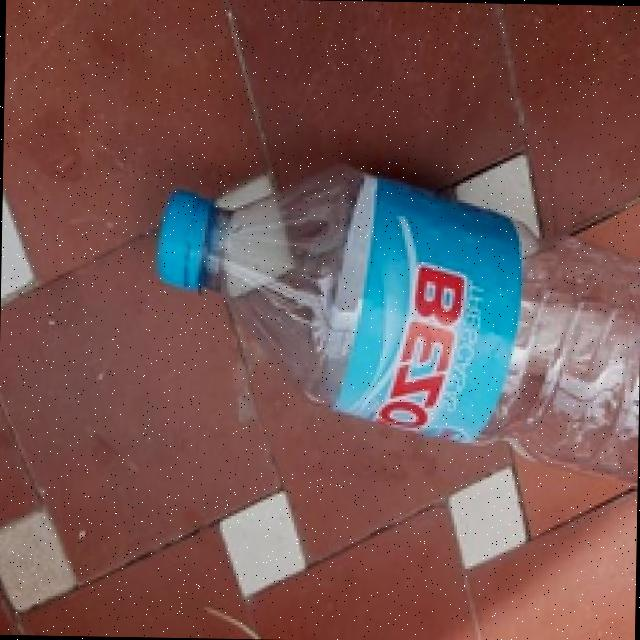bottle: (142, 149, 640, 489)
cap: (154, 180, 214, 295)
label: (332, 172, 529, 468)
